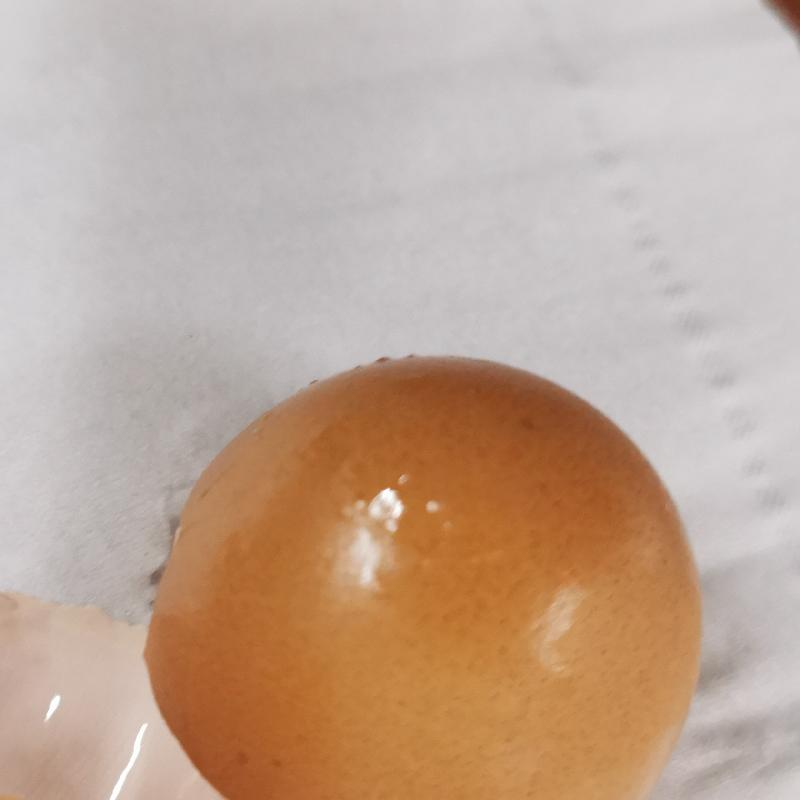eggshell: (148, 350, 703, 800)
